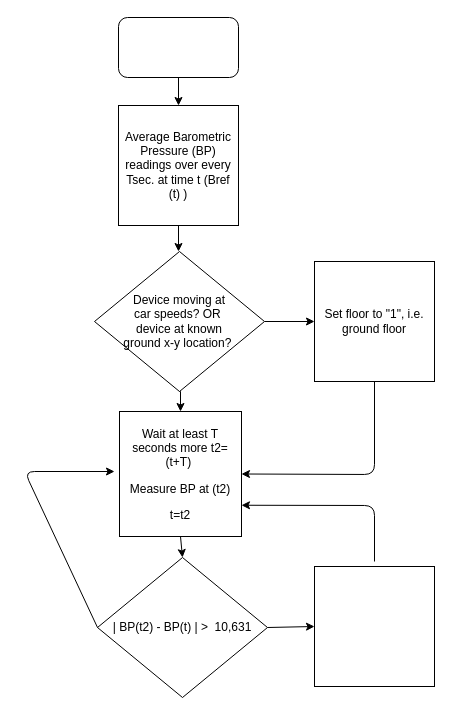
This 452x715 diagram has some shape labels left out. The shapes that lost their labels are listed below. From the top down, each one's centre as x and y in pixels, then its label:
At pixel 178 47: "Start".
At pixel 374 626: "Increment floor by the increment of 10,631".
